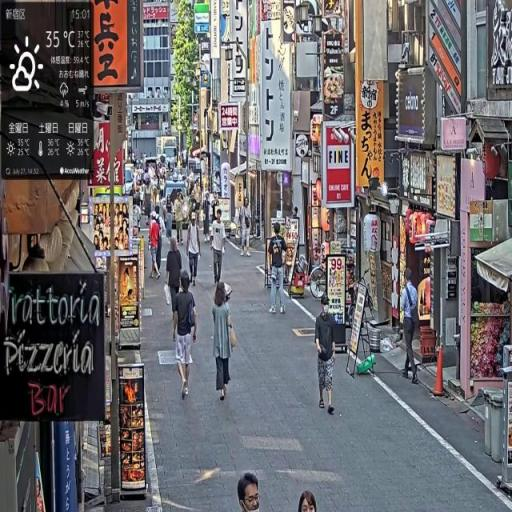person: (173, 272, 199, 401), (212, 281, 238, 403), (315, 296, 338, 415), (401, 268, 422, 385), (166, 236, 185, 336), (210, 209, 227, 289), (186, 213, 203, 287), (239, 198, 254, 257), (150, 213, 163, 279)
